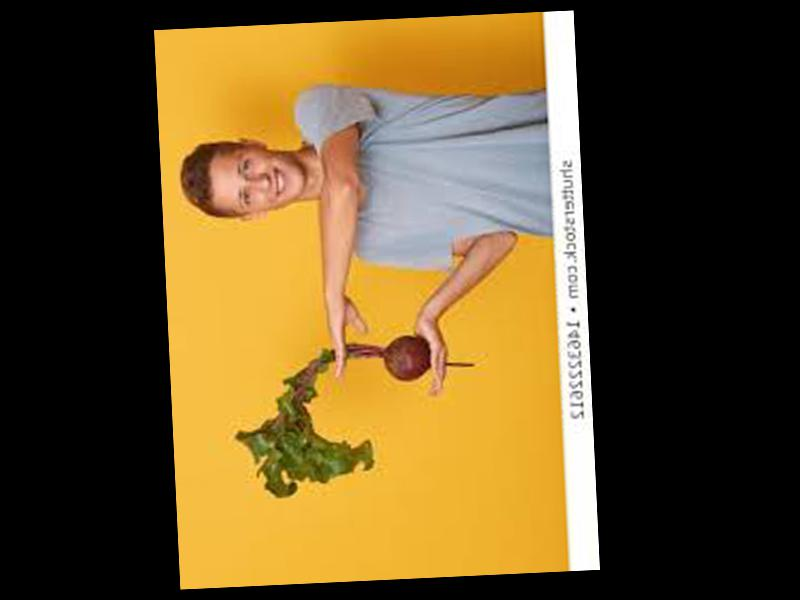Beet: (231, 332, 479, 500)
